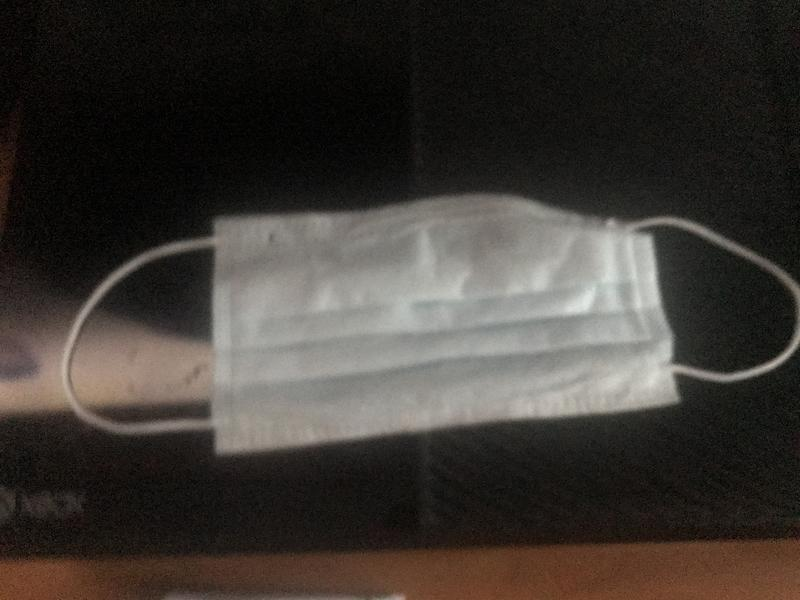medical_mask: (66, 194, 800, 442)
